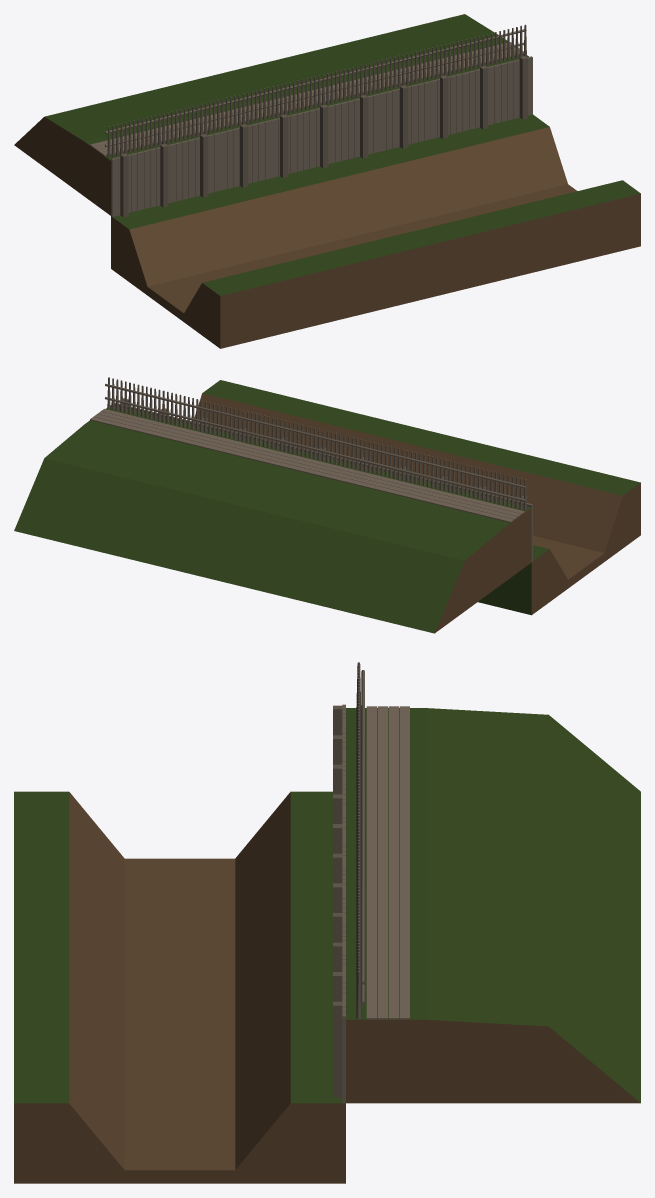
File: burh-rampart-1000.glb
3 renders of one model, top to bottom at view 1: azimuth 30°, elevation 25°; view 2: azimuth 150°, elevation 25°; view 3: azimuth 270°, elevation 25°, orthographic. The views are drawn at different scales.
Parts seen in each view (by area): view 1: earth, turf, walkway-boards.04, walkway-board-01, breastwork-rail-upper, walkway-boards.02, breastwork-rail-lower, revetment-post-01, revetment-posts.05, revetment-posts.06, revetment-posts.02, revetment-posts.03 (+6 smaller); view 2: turf, earth, walkway-boards.04, walkway-boards.02, walkway-boards.03, walkway-board-01, breastwork-rail-lower, breastwork-rail-upper; view 3: turf, earth, walkway-board-01, walkway-boards.02, walkway-boards.03, walkway-boards.04, breastwork-rail-upper, revetment-posts.11.
Boxes of the visible parts, left/top/right/bottom form: earth: left=14, top=117, right=640, bottom=348; turf: left=45, top=14, right=640, bottom=295; walkway-boards.04: left=90, top=42, right=511, bottom=147; walkway-board-01: left=101, top=50, right=523, bottom=155; breastwork-rail-upper: left=105, top=29, right=526, bottom=133; walkway-boards.02: left=97, top=48, right=519, bottom=153; breastwork-rail-lower: left=105, top=42, right=523, bottom=146; revetment-post-01: left=120, top=153, right=128, bottom=217; revetment-posts.05: left=280, top=114, right=288, bottom=178; revetment-posts.06: left=320, top=104, right=328, bottom=168; revetment-posts.02: left=160, top=143, right=168, bottom=207; revetment-posts.03: left=200, top=134, right=208, bottom=197; turf: left=14, top=380, right=640, bottom=633; earth: left=194, top=393, right=640, bottom=632; walkway-boards.04: left=90, top=417, right=513, bottom=522; walkway-boards.02: left=97, top=411, right=521, bottom=517; walkway-boards.03: left=93, top=414, right=517, bottom=519; walkway-board-01: left=101, top=409, right=524, bottom=514; breastwork-rail-lower: left=105, top=397, right=526, bottom=501; breastwork-rail-upper: left=105, top=384, right=526, bottom=488; turf: left=14, top=708, right=640, bottom=1103; earth: left=14, top=792, right=640, bottom=1183; walkway-board-01: left=366, top=706, right=376, bottom=1019; walkway-boards.02: left=377, top=706, right=387, bottom=1019; walkway-boards.03: left=388, top=706, right=398, bottom=1019; walkway-boards.04: left=399, top=706, right=409, bottom=1019; breastwork-rail-upper: left=361, top=670, right=364, bottom=984; revetment-posts.11: left=333, top=1001, right=342, bottom=1097.
Size of the model in its own units: 20 by 6.3 by 17.
